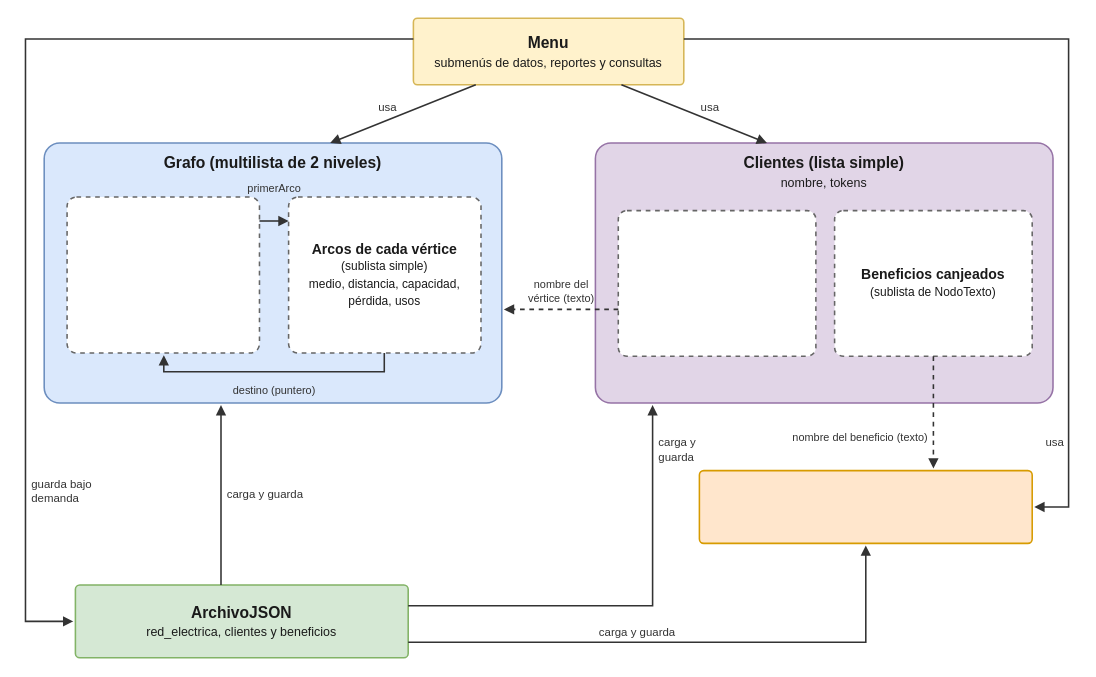
This 1096x677 diagram has some shape labels left out. The shapes that lost their labels are listed below. From the top down, each one's centre as x and y in pixels, then its label:
At (163,274): "Vértices (lista simple) nombre, tipo, región, visitado".
At (716,283): "Subestaciones conectadas (sublista de NodoTexto)".
At (865,506): "Catálogo de beneficios (lista simple: nombre, costo)".
